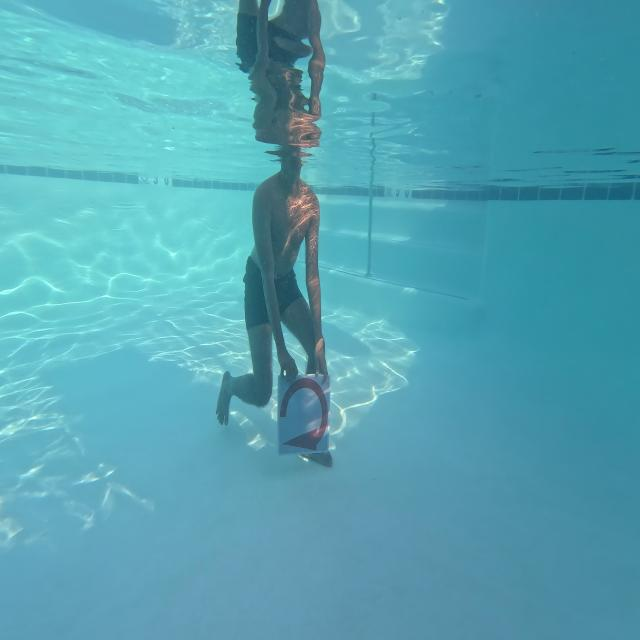red_side: (272, 363, 342, 465)
